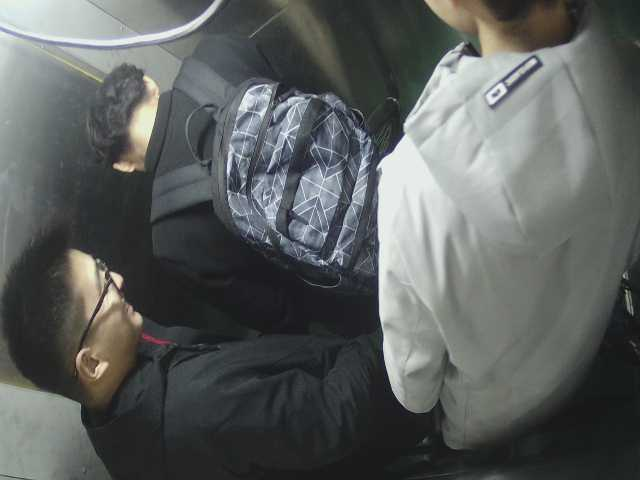bag: (179, 67, 396, 301)
person: (365, 1, 638, 448), (3, 235, 457, 480), (87, 34, 405, 340)
